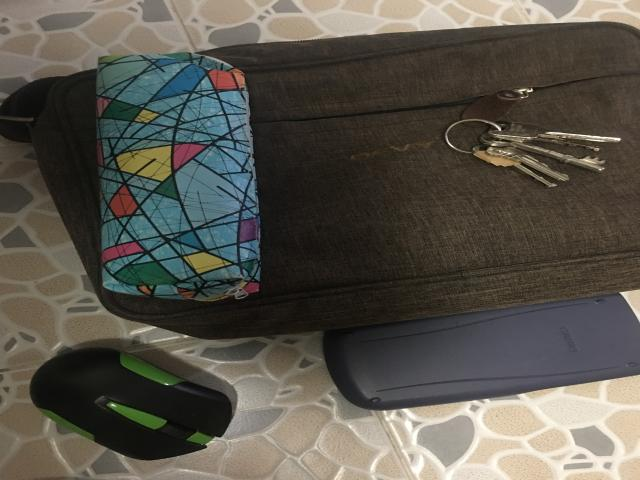Keys: (445, 119, 620, 187)
Mouse: (30, 348, 232, 460)
